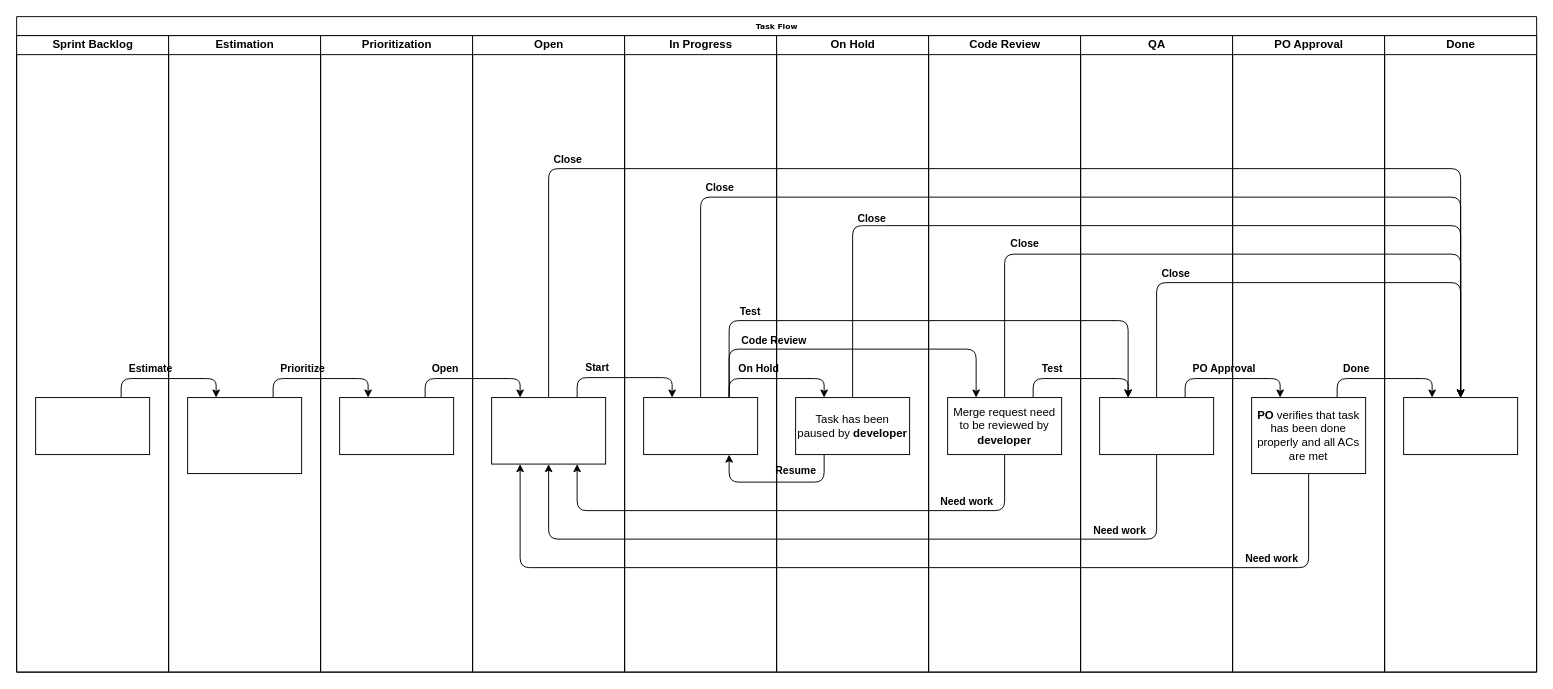
Image size: 1553x689. Some labels were removed from this diagram. Here are the shapes that lost their labels. From the top down, the centre of each, then its label:
(92,426): Task is being added by PO before sprint refinement
(244,435): Task is being estimated by team during the backlog refinement
(396,426): Task is being prioritized by PO until sprint start .
(548,430): Task is ready to be taken by developer
(700,426): Task is currently in work by developer
(1156,426): QA makes tests
(1460,426): Task has been done properly and should be delivered
